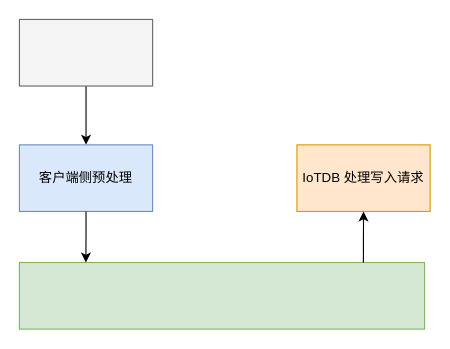
Image size: 450x349. Some labels were removed from this diagram. The centre of each missing label's shape, as x and y in pixels:
RPC 层数据传输: (x=221, y=295)
数据采集应用: (x=85, y=52)
